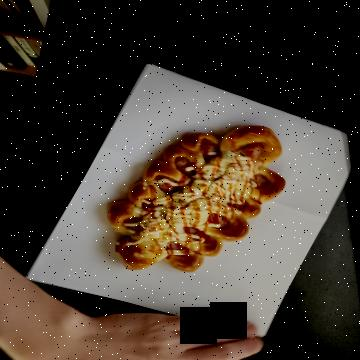pizza_bread: (122, 82, 273, 270)
